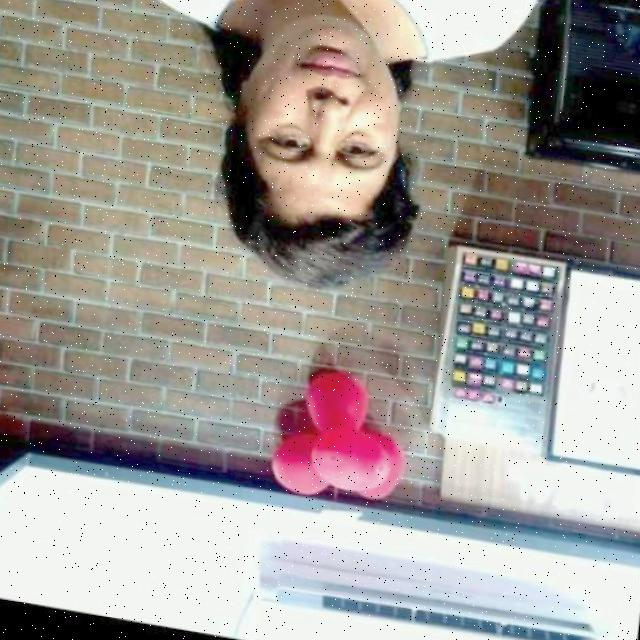puffy_eyes: (348, 129, 383, 146), (279, 124, 316, 139)
